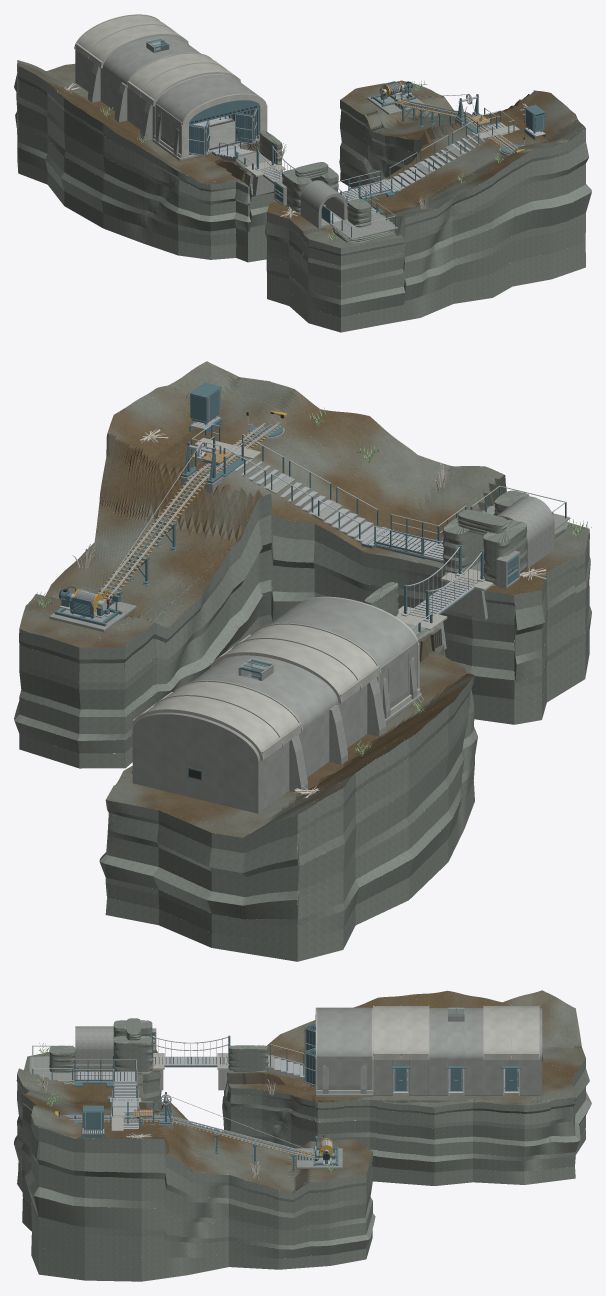
File: gorgehold-survivor-gallery-and-operation-a67a8780-starter-scene__32903.glb
The picture shows the model from 3 angles, top to bottom: view 1: azimuth 30°, elevation 25°; view 2: azimuth 150°, elevation 25°; view 3: azimuth 270°, elevation 25°; orthographic projection. The views are drawn at different scales.
Visible parts, largest first — view 1: 096-broken-road-gorge-landform-configuration/17, 096-broken-road-gorge-landform-configuration/15, 096-broken-road-gorge-landform-configuration/4, 096-broken-road-gorge-landform-configuration/18, 096-broken-road-gorge-landform-configuration/13, 096-broken-road-gorge-landform-configuration/16, 096-broken-road-gorge-landform-configuration/2, 096-broken-road-gorge-landform-configuration/3, 096-broken-road-gorge-landform-configuration/1, 096-broken-road-gorge-landform-configuration/28, 096-broken-road-gorge-landform-configuration/27, 096-broken-road-gorge-landform-configuration/12 (+35 smaller); view 2: 096-broken-road-gorge-landform-configuration/27, 096-broken-road-gorge-landform-configuration/26, 096-broken-road-gorge-landform-configuration/14, 096-broken-road-gorge-landform-configuration/13, 096-broken-road-gorge-landform-configuration/2, 096-broken-road-gorge-landform-configuration/1, 096-broken-road-gorge-landform-configuration/28, 096-broken-road-gorge-landform-configuration/0, 096-broken-road-gorge-landform-configuration/4, 096-broken-road-gorge-landform-configuration/3, 031-gallery-enclosed-end-wall/0, 096-broken-road-gorge-landform-configuration/12 (+34 smaller); view 3: 096-broken-road-gorge-landform-configuration/2, 096-broken-road-gorge-landform-configuration/16, 096-broken-road-gorge-landform-configuration/1, 096-broken-road-gorge-landform-configuration/17, 096-broken-road-gorge-landform-configuration/18, 096-broken-road-gorge-landform-configuration/13, 096-broken-road-gorge-landform-configuration/15, 096-broken-road-gorge-landform-configuration/14, 096-broken-road-gorge-landform-configuration/3, 096-broken-road-gorge-landform-configuration/27, 000-gallery-vehicle-portal-pass-through/1, 011-gallery-arch-bay-lightwell-configuration/0 (+33 smaller).
Part boxes in pixels (<box>): 096-broken-road-gorge-landform-configuration/17: <box>266,162,585,317</box>; 096-broken-road-gorge-landform-configuration/15: <box>267,142,591,286</box>; 096-broken-road-gorge-landform-configuration/4: <box>17,147,266,262</box>; 096-broken-road-gorge-landform-configuration/18: <box>267,171,585,332</box>; 096-broken-road-gorge-landform-configuration/13: <box>265,111,588,265</box>; 096-broken-road-gorge-landform-configuration/16: <box>266,147,591,299</box>; 096-broken-road-gorge-landform-configuration/2: <box>15,97,276,222</box>; 096-broken-road-gorge-landform-configuration/3: <box>15,115,266,235</box>; 096-broken-road-gorge-landform-configuration/1: <box>14,73,273,205</box>; 096-broken-road-gorge-landform-configuration/28: <box>290,127,584,218</box>; 096-broken-road-gorge-landform-configuration/27: <box>291,89,585,218</box>; 096-broken-road-gorge-landform-configuration/12: <box>267,100,585,254</box>; 096-broken-road-gorge-landform-configuration/27: <box>79,361,544,647</box>; 096-broken-road-gorge-landform-configuration/26: <box>79,362,546,646</box>; 096-broken-road-gorge-landform-configuration/14: <box>19,543,590,709</box>; 096-broken-road-gorge-landform-configuration/13: <box>19,515,589,682</box>; 096-broken-road-gorge-landform-configuration/2: <box>99,711,477,919</box>; 096-broken-road-gorge-landform-configuration/1: <box>106,644,474,896</box>; 096-broken-road-gorge-landform-configuration/28: <box>207,361,545,572</box>; 096-broken-road-gorge-landform-configuration/0: <box>105,646,474,872</box>; 096-broken-road-gorge-landform-configuration/4: <box>105,763,474,961</box>; 096-broken-road-gorge-landform-configuration/3: <box>105,737,477,942</box>; 031-gallery-enclosed-end-wall/0: <box>132,712,260,813</box>; 096-broken-road-gorge-landform-configuration/12: <box>19,493,589,663</box>; 096-broken-road-gorge-landform-configuration/2: <box>222,1090,591,1157</box>; 096-broken-road-gorge-landform-configuration/16: <box>17,1108,375,1249</box>; 096-broken-road-gorge-landform-configuration/1: <box>225,1080,585,1141</box>; 096-broken-road-gorge-landform-configuration/17: <box>14,1135,369,1258</box>; 096-broken-road-gorge-landform-configuration/18: <box>17,1162,372,1281</box>; 096-broken-road-gorge-landform-configuration/13: <box>17,1080,372,1213</box>; 096-broken-road-gorge-landform-configuration/15: <box>17,1100,372,1234</box>; 096-broken-road-gorge-landform-configuration/14: <box>17,1090,372,1230</box>; 096-broken-road-gorge-landform-configuration/3: <box>222,1107,585,1172</box>; 096-broken-road-gorge-landform-configuration/27: <box>36,1068,372,1169</box>; 000-gallery-vehicle-portal-pass-through/1: <box>317,1007,372,1093</box>; 011-gallery-arch-bay-lightwell-configuration/0: <box>428,1008,483,1095</box>.
Size of the model in its own units: 33.03 by 13.15 by 45.
Materials: 16 (8 with a texture image).
